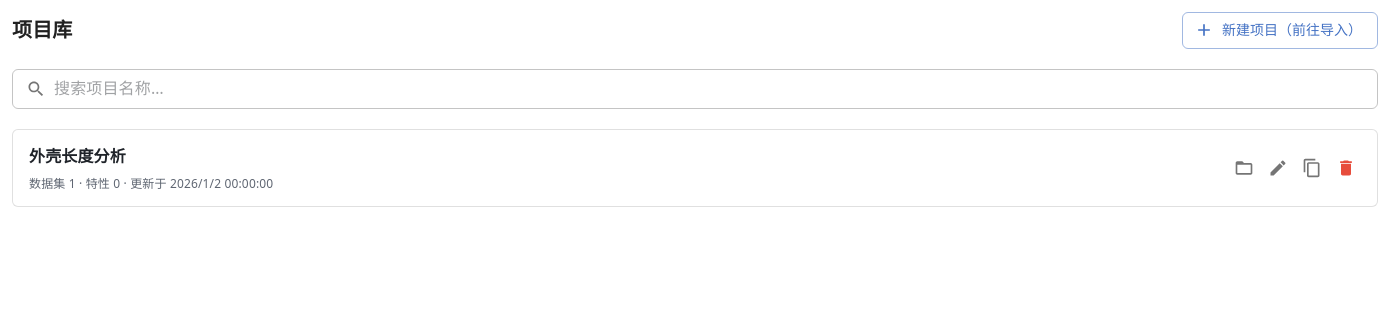
Scenario: ProjectLibraryPage › 搜索过滤：无匹配 → 未找到
The width and height of the screenshot is (1390, 322).
Expected: the heading "外壳长度分析" is shown, [29, 142, 126, 170]
Type "zzz" into the field labelled "搜索项目" at x=716, y=88, box [54, 68, 1378, 108]
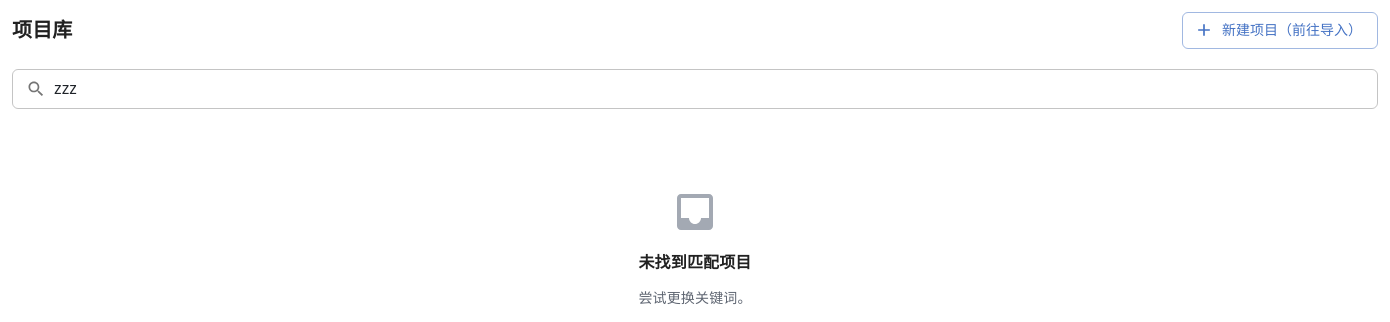
Now the heading "未找到匹配项目" is shown, box [638, 248, 752, 276]
